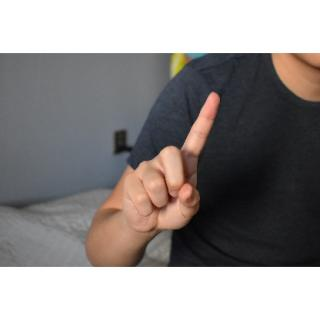BAA: (119, 88, 223, 235)
